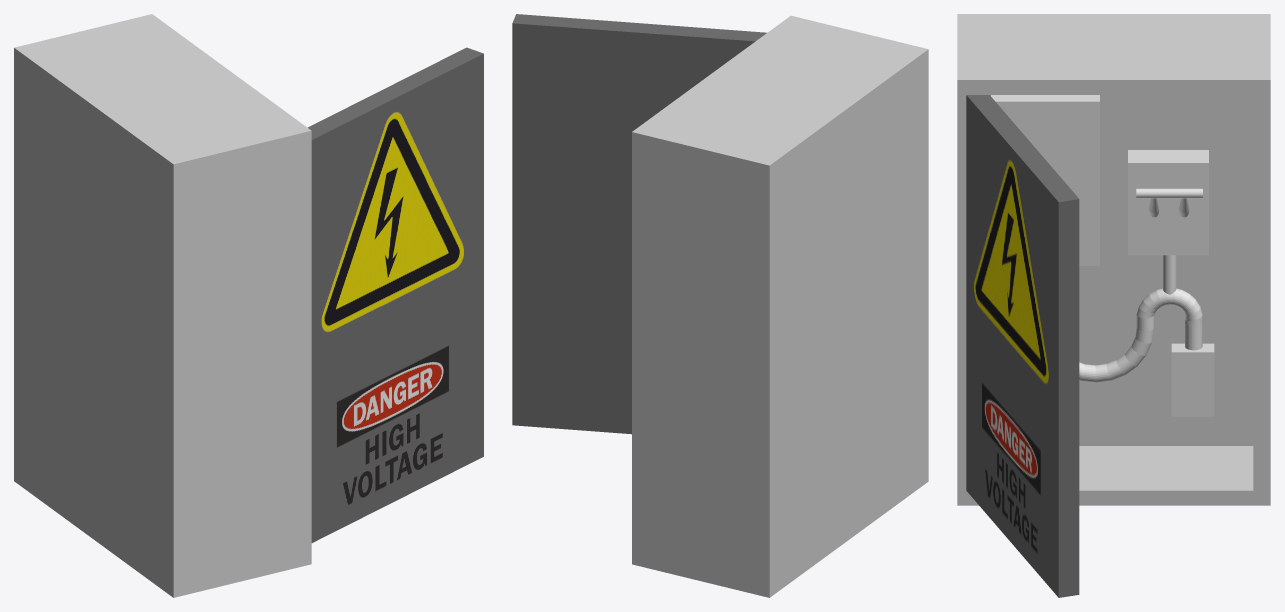
Rendered from LightSwitchBox.fbx.
The picture shows the model from 3 angles, left to right: view 1: azimuth 30°, elevation 25°; view 2: azimuth 150°, elevation 25°; view 3: azimuth 270°, elevation 25°; orthographic projection.
Parts seen in each view (by area): view 1: base, door; view 2: base, door; view 3: base, door, cube, tube, handle.
Boxes of the visible parts, x1=… form: base: x1=14, y1=14, x2=311, y2=597; door: x1=307, y1=47, x2=483, y2=542; base: x1=632, y1=15, x2=928, y2=597; door: x1=512, y1=14, x2=766, y2=434; base: x1=957, y1=14, x2=1270, y2=505; door: x1=966, y1=95, x2=1079, y2=597; cube: x1=991, y1=95, x2=1214, y2=416; tube: x1=1079, y1=255, x2=1202, y2=382; handle: x1=1136, y1=188, x2=1202, y2=198.
Bounding box in the file's own units: 262 × 300 × 200.
